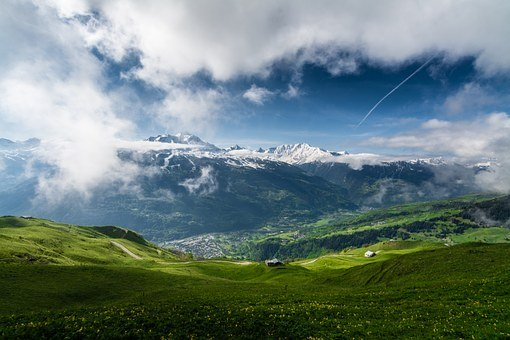field: (15, 224, 505, 338)
mountain: (21, 132, 510, 240)
sky: (5, 5, 505, 156)
